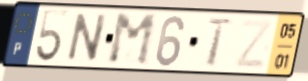5: (33, 8, 74, 65)
6: (154, 13, 186, 69)
M: (107, 12, 159, 68)
N: (64, 11, 111, 63)
T: (205, 16, 235, 69)
Z: (232, 18, 275, 71)
